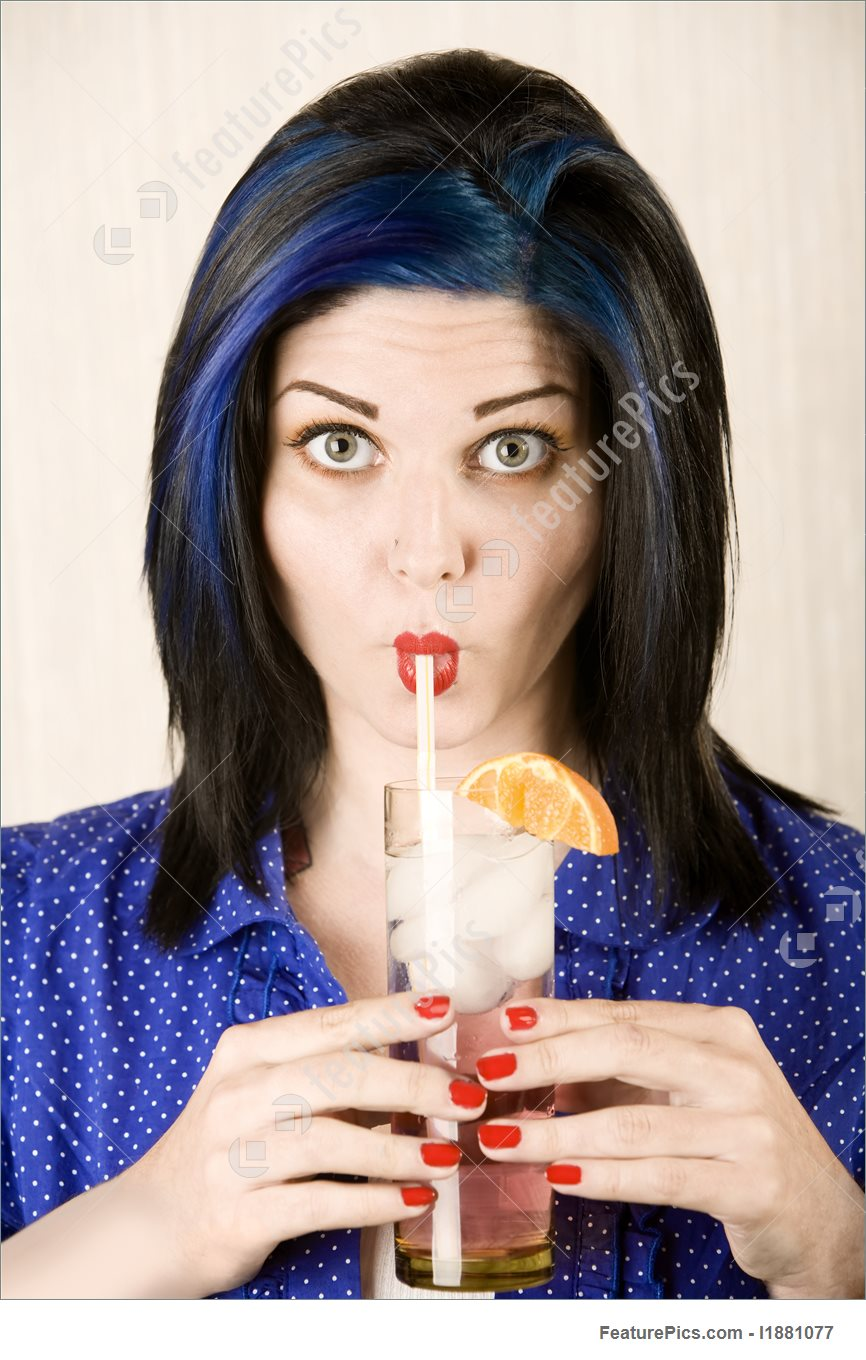drinking: (111, 60, 789, 1186)
